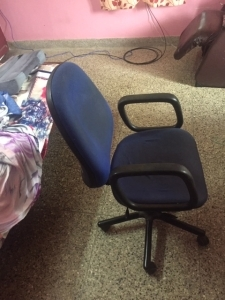chair: (46, 62, 210, 274)
